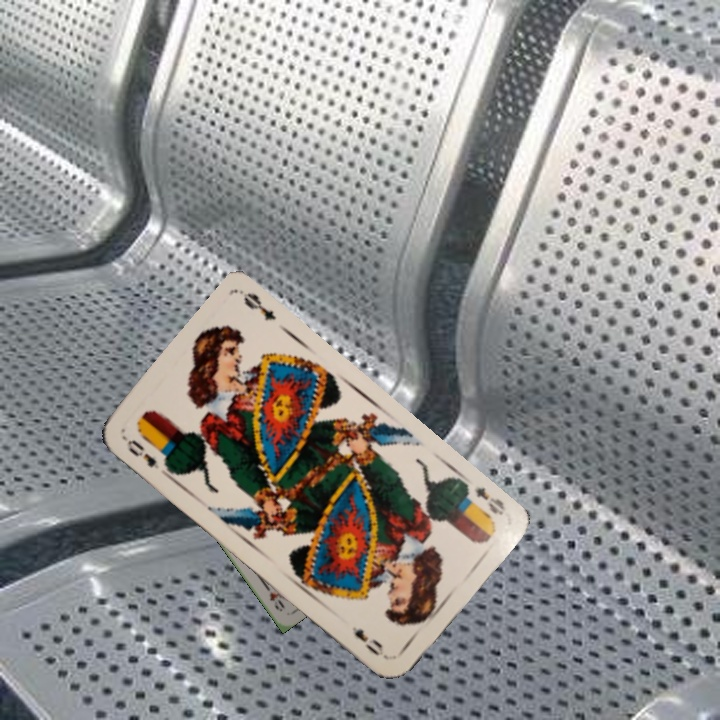EO: (122, 435, 162, 472), (471, 483, 508, 519)
